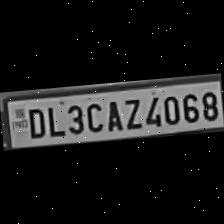0: (159, 92, 181, 126)
3: (63, 101, 84, 135)
4: (140, 92, 162, 129)
6: (178, 90, 200, 125)
8: (197, 88, 219, 123)
A: (102, 97, 123, 133)
C: (82, 98, 104, 134)
D: (22, 104, 45, 140)
L: (44, 102, 64, 138)
Z: (119, 94, 142, 132)
